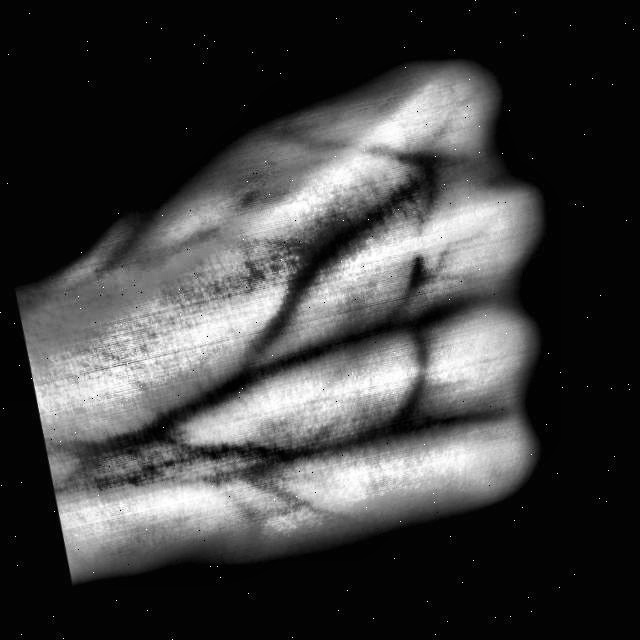Vein: (171, 333, 341, 423)
